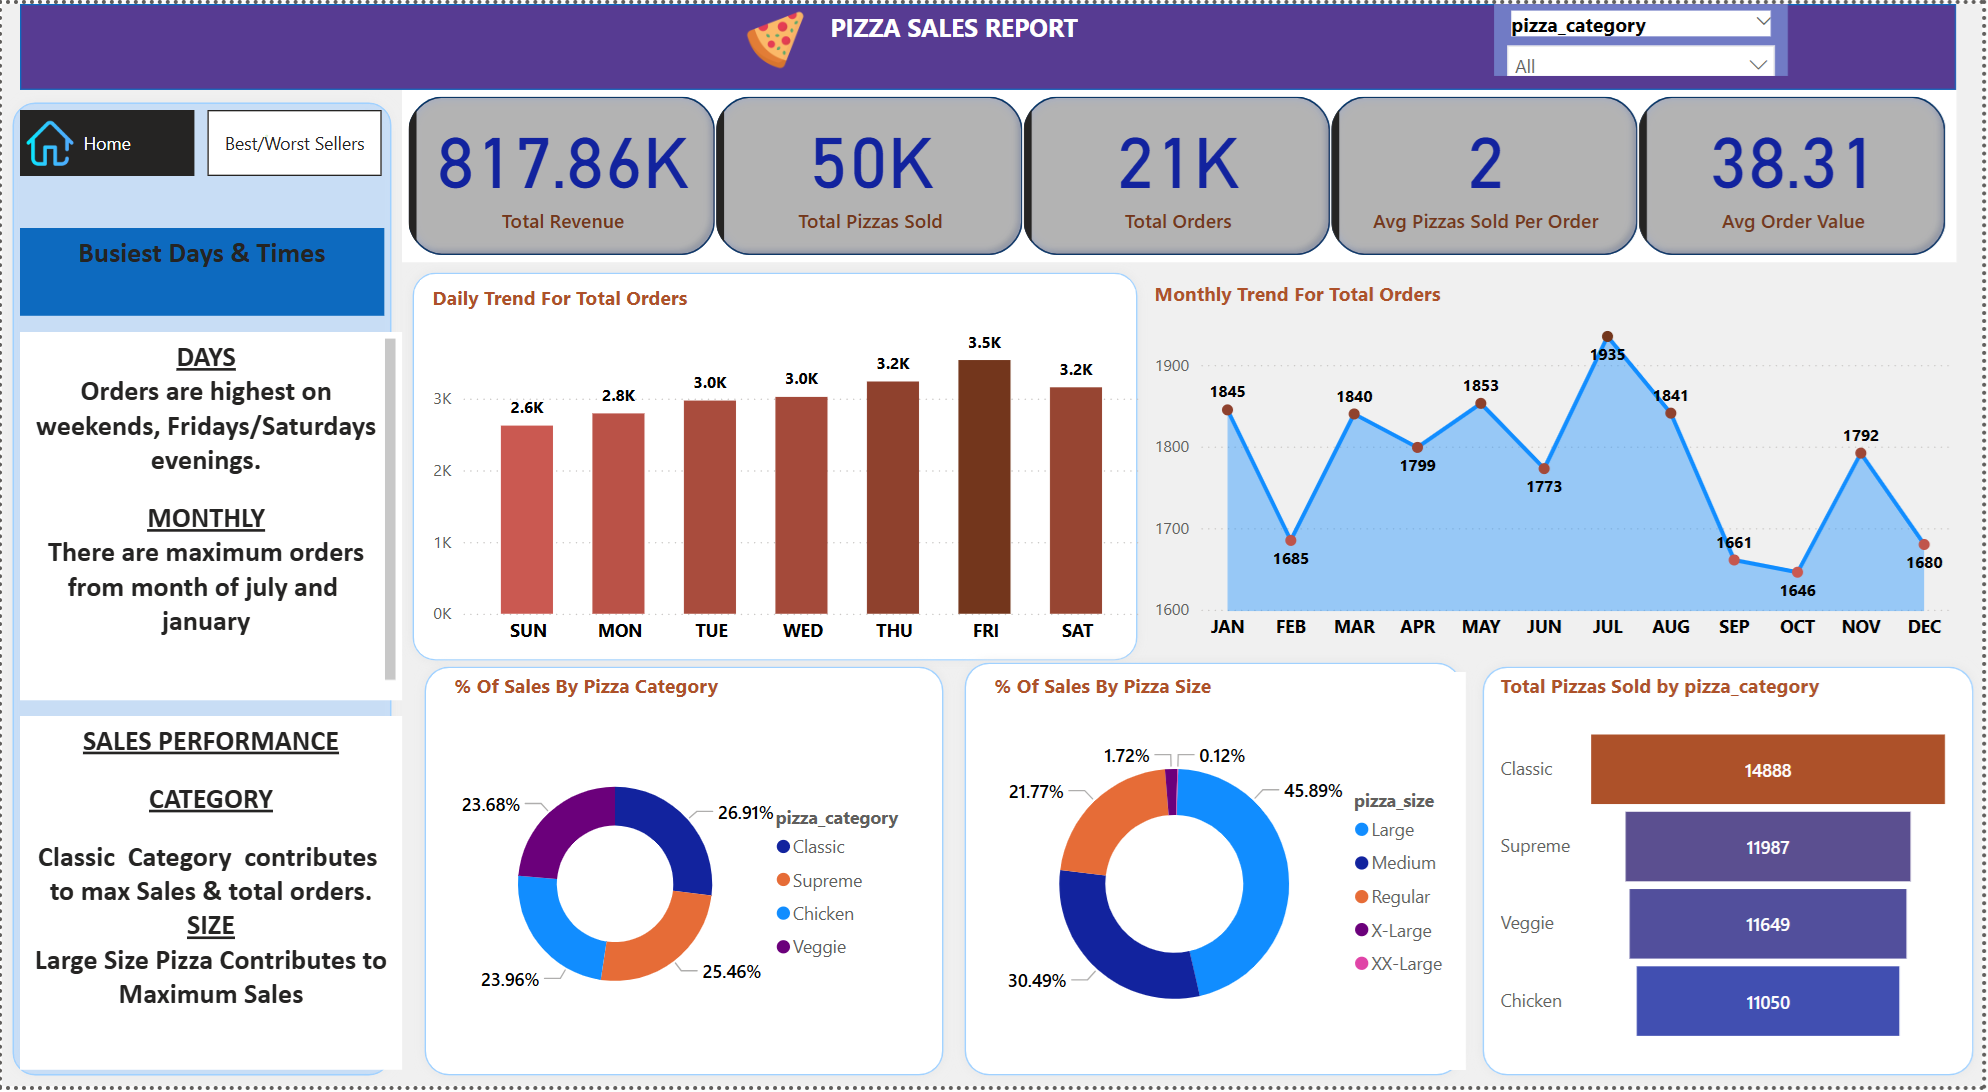

This screenshot's page, from the dashboard's own definition file:
{"tool":"powerbi","page":{"name":"Home","canvas":[1500,820],"ordinal":0},"visuals":[{"type":"shape","box":[0,66.7,303,753],"z":0},{"type":"cardVisual","fields":{"Data":["pizza_sales.Total Revenue","pizza_sales.Total Pizzas Sold","pizza_sales.Total Orders","pizza_sales.Avg Pizzas Sold Per Order","pizza_sales.Avg Order Value"]},"box":[303,65.2,1177.3,130.3],"z":1000},{"type":"shape","box":[13.6,0,1466.7,65.2],"z":2000},{"type":"textbox","box":[616.7,0,209.1,66.7],"z":3000},{"type":"image","box":[554.5,0,62.1,54.5],"z":4000},{"type":"textbox","box":[13.6,169.7,275.8,66.7],"z":5000},{"type":"shape","box":[303,195.5,565.2,310],"z":6000},{"type":"columnChart","title":"Daily Trend For Total Orders","fields":{"Category":["pizza_sales.Order_Day"],"Y":["pizza_sales.Total Orders"]},"box":[321.2,212.1,547,281.8],"z":7000},{"type":"areaChart","title":"Monthly Trend For Total Orders","fields":{"Category":["pizza_sales.Order Month"],"Y":["pizza_sales.Total Orders"]},"box":[868.2,209.1,612.1,281.8],"z":8000},{"type":"shape","box":[312.1,493.9,409.1,325.8],"z":9000},{"type":"shape","box":[721.2,490.9,392.4,328.8],"z":10000},{"type":"shape","box":[1113.6,493.9,387.9,325.8],"z":11000},{"type":"donutChart","title":"% Of Sales By Pizza Category","fields":{"Category":["pizza_sales.pizza_category"],"Y":["pizza_sales.Total Revenue"]},"box":[337.9,506.1,362.1,301.5],"z":12000},{"type":"donutChart","title":"% Of Sales By Pizza Size","fields":{"Category":["pizza_sales.pizza_size"],"Y":["pizza_sales.Total Revenue"]},"box":[747,506.1,362.1,301.5],"z":13000},{"type":"funnel","fields":{"Category":["pizza_sales.pizza_category"],"Y":["pizza_sales.Total Pizzas Sold"]},"box":[1130.3,506.1,351.5,301.5],"z":14000},{"type":"textbox","box":[13.6,248.5,289.4,278.8],"z":15000},{"type":"textbox","box":[13.6,539.4,289.4,268.2],"z":16000},{"type":"slicer","fields":{"Values":["pizza_sales.pizza_category"]},"box":[1130.3,0,222.7,54.5],"z":17000},{"type":"pageNavigator","box":[13.6,80.3,275.8,50],"z":19000},{"type":"image","box":[13.6,80.3,45.5,50],"z":19001},{"type":"image","box":[159.1,93.9,83.3,12.1],"z":19002}]}

Visuals, with their boxes in screenshot pixels (x1, y1, x2, y2), scaled from the page's 1500x820 canvas onto the 1988x1092 screenshot:
shape: box=[0, 89, 402, 1091]
cardVisual - pizza_sales.Total Revenue x pizza_sales.Total Pizzas Sold: box=[402, 87, 1962, 260]
shape: box=[18, 0, 1962, 87]
textbox: box=[817, 0, 1094, 89]
image: box=[735, 0, 817, 73]
textbox: box=[18, 226, 384, 315]
shape: box=[402, 260, 1151, 673]
"Daily Trend For Total Orders" columnChart: box=[426, 282, 1151, 658]
"Monthly Trend For Total Orders" areaChart: box=[1151, 278, 1962, 654]
shape: box=[414, 658, 956, 1091]
shape: box=[956, 654, 1476, 1091]
shape: box=[1476, 658, 1987, 1091]
"% Of Sales By Pizza Category" donutChart: box=[448, 674, 928, 1075]
"% Of Sales By Pizza Size" donutChart: box=[990, 674, 1470, 1075]
funnel - pizza_sales.pizza_category x pizza_sales.Total Pizzas Sold: box=[1498, 674, 1964, 1075]
textbox: box=[18, 331, 402, 702]
textbox: box=[18, 718, 402, 1075]
slicer - pizza_sales.pizza_category: box=[1498, 0, 1793, 73]
pageNavigator: box=[18, 107, 384, 174]
image: box=[18, 107, 78, 174]
image: box=[211, 125, 321, 141]
